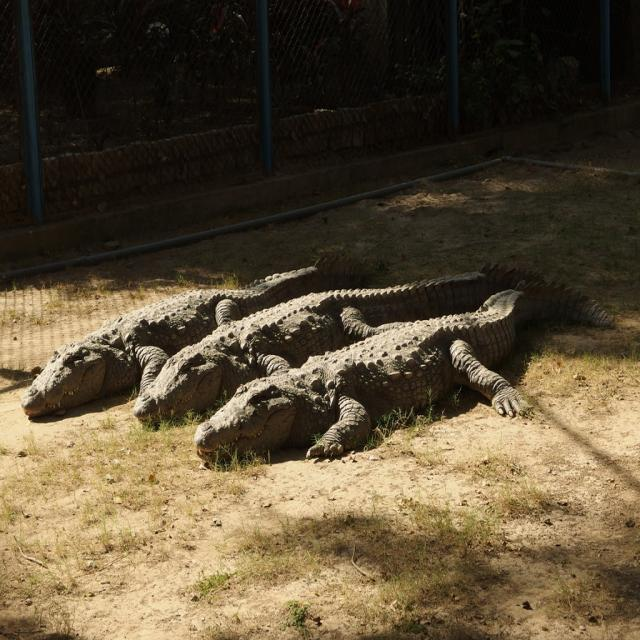crocodile: (5, 226, 623, 479)
